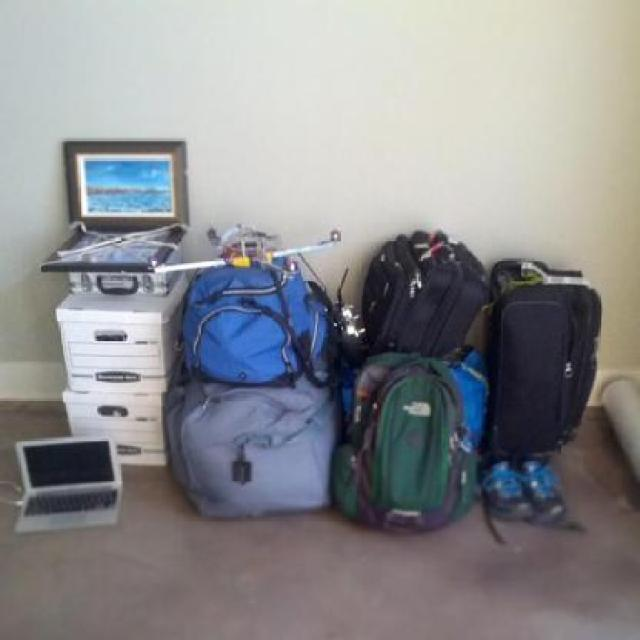backpack: (332, 354, 480, 532), (482, 251, 606, 460), (177, 238, 343, 388), (164, 383, 338, 517), (357, 223, 485, 357)
